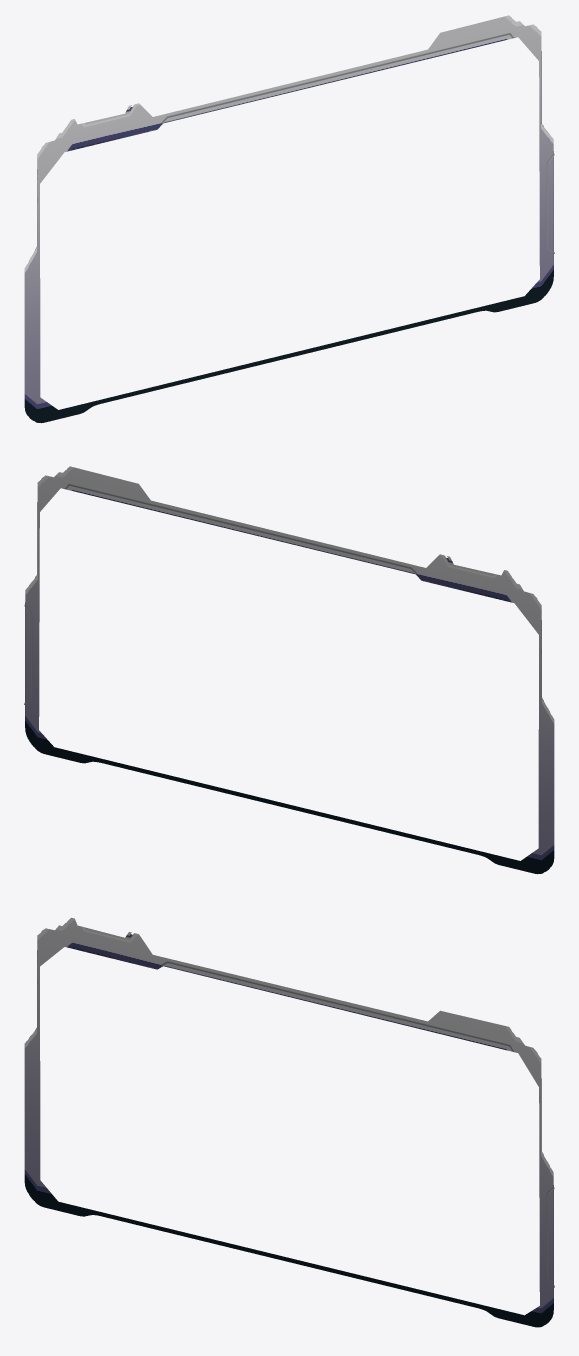
Rendered from UI_saog_2_1.FBX.
The picture shows the model from 3 angles, top to bottom: view 1: azimuth 30°, elevation 25°; view 2: azimuth 150°, elevation 25°; view 3: azimuth 330°, elevation 25°; orthographic projection.
Parts seen in each view (by area): view 1: Plane002; view 2: Plane002; view 3: Plane002.
Part boxes in pixels (left/top/right/bottom): Plane002: left=24, top=15, right=554, bottom=423; Plane002: left=24, top=466, right=554, bottom=874; Plane002: left=24, top=917, right=554, bottom=1327.
Size of the model in its own units: 1066 by 568 by 0.000105.
